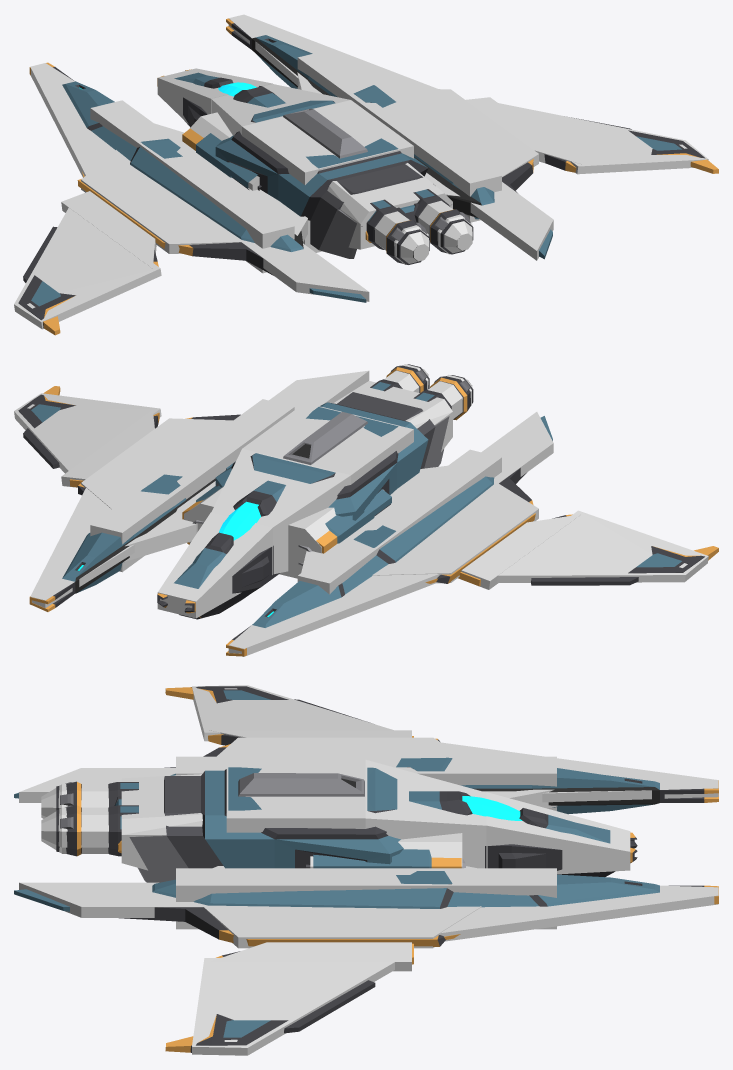
Rendered from SM_Ship_Fighter_05.fbx.
The picture shows the model from 3 angles, top to bottom: view 1: azimuth 30°, elevation 25°; view 2: azimuth 150°, elevation 25°; view 3: azimuth 270°, elevation 25°; orthographic projection. The views are drawn at different scales.
Parts seen in each view (by area): view 1: SM_Ship_Fighter_05_ConvexHulls, SM_Ship_Fighter_05_LOD0; view 2: SM_Ship_Fighter_05_ConvexHulls, SM_Ship_Fighter_05_LOD0; view 3: SM_Ship_Fighter_05_ConvexHulls, SM_Ship_Fighter_05_LOD0.
Part boxes in pixels (<box>): SM_Ship_Fighter_05_ConvexHulls: <box>14,14,708,329</box>; SM_Ship_Fighter_05_LOD0: <box>18,18,718,335</box>; SM_Ship_Fighter_05_ConvexHulls: <box>14,364,708,656</box>; SM_Ship_Fighter_05_LOD0: <box>18,364,718,656</box>; SM_Ship_Fighter_05_ConvexHulls: <box>19,685,718,1055</box>; SM_Ship_Fighter_05_LOD0: <box>14,686,718,1052</box>.
Bounding box in the file's own units: 1476 × 1797 × 272.
Materials: 1 (1 with a texture image).
